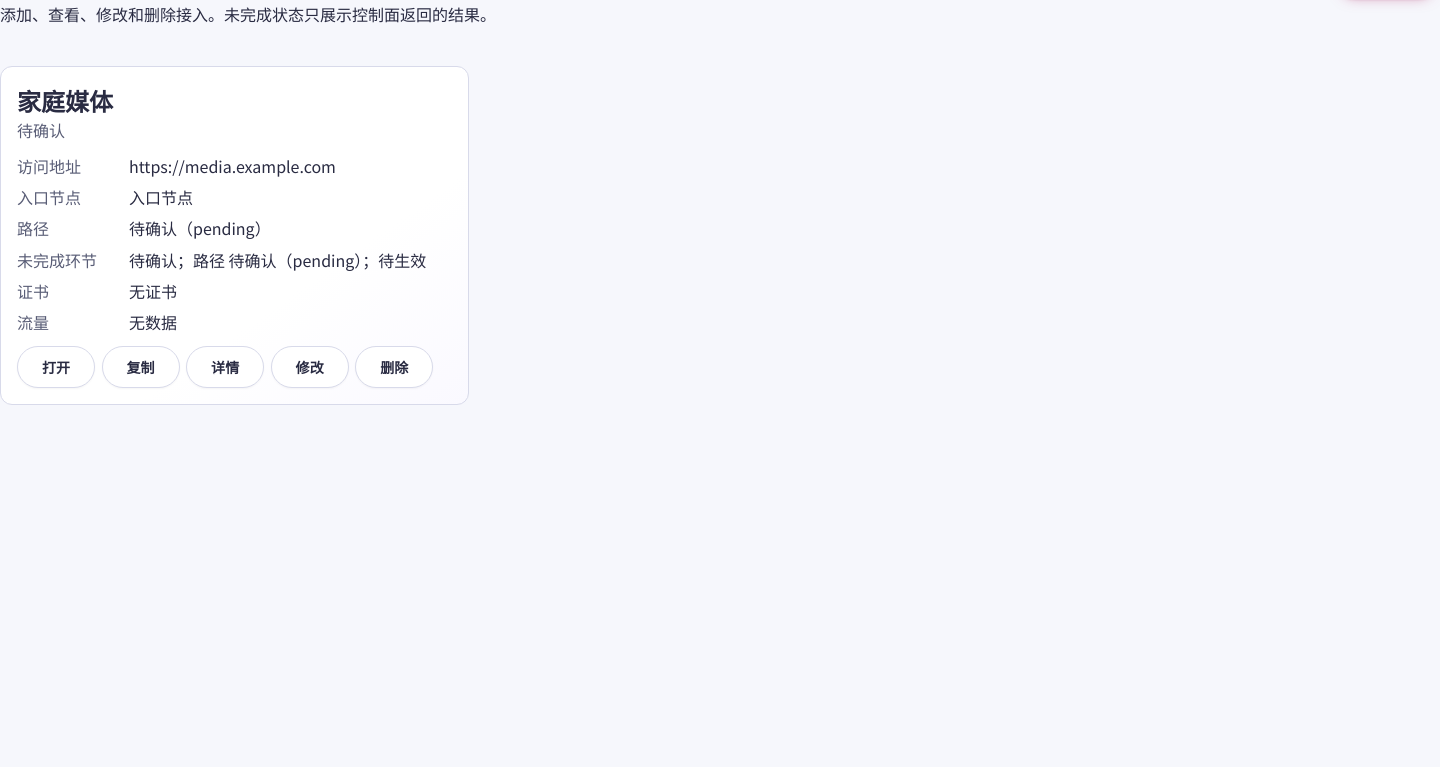
Test case: service page › explains stopped entries and retained resources before deleting
Click the button "删除" at point(394, 367), box [355,346,433,388]
(page scrolled)
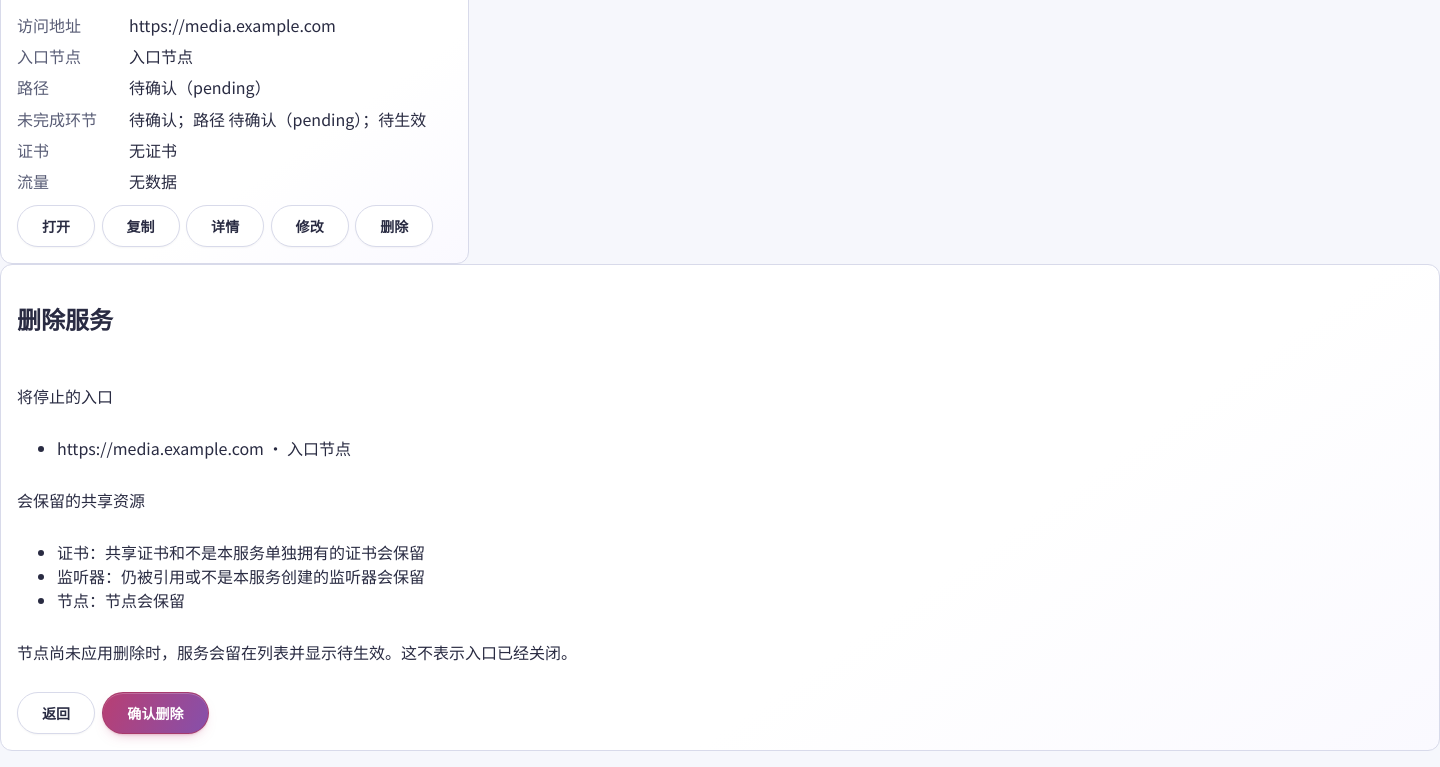
Result: the dialog with test id "service-delete" shows "将停止的入口" at [17,384,113,408]
Result: the dialog with test id "service-delete" shows "https://media.example.com" at [57,436,351,460]
Result: the dialog with test id "service-delete" shows "会保留的共享资源" at [17,488,145,512]
Click the button "返回" at point(56, 713), box [17,692,95,734]
(page scrolled)
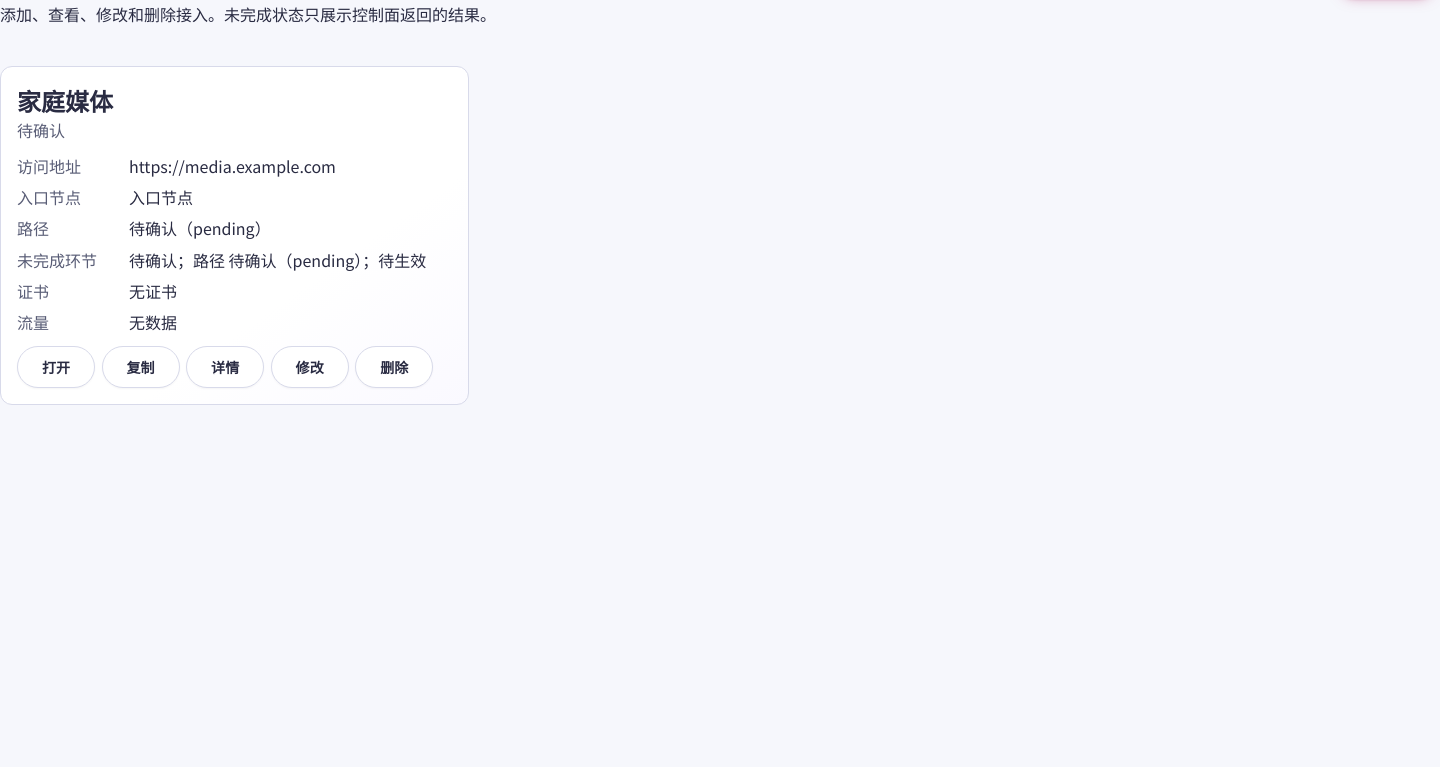
Expected: the element with test id "service-card" is shown, [0,66,469,405]
Click the button "删除" at point(394, 367), box [355,346,433,388]
(page scrolled)
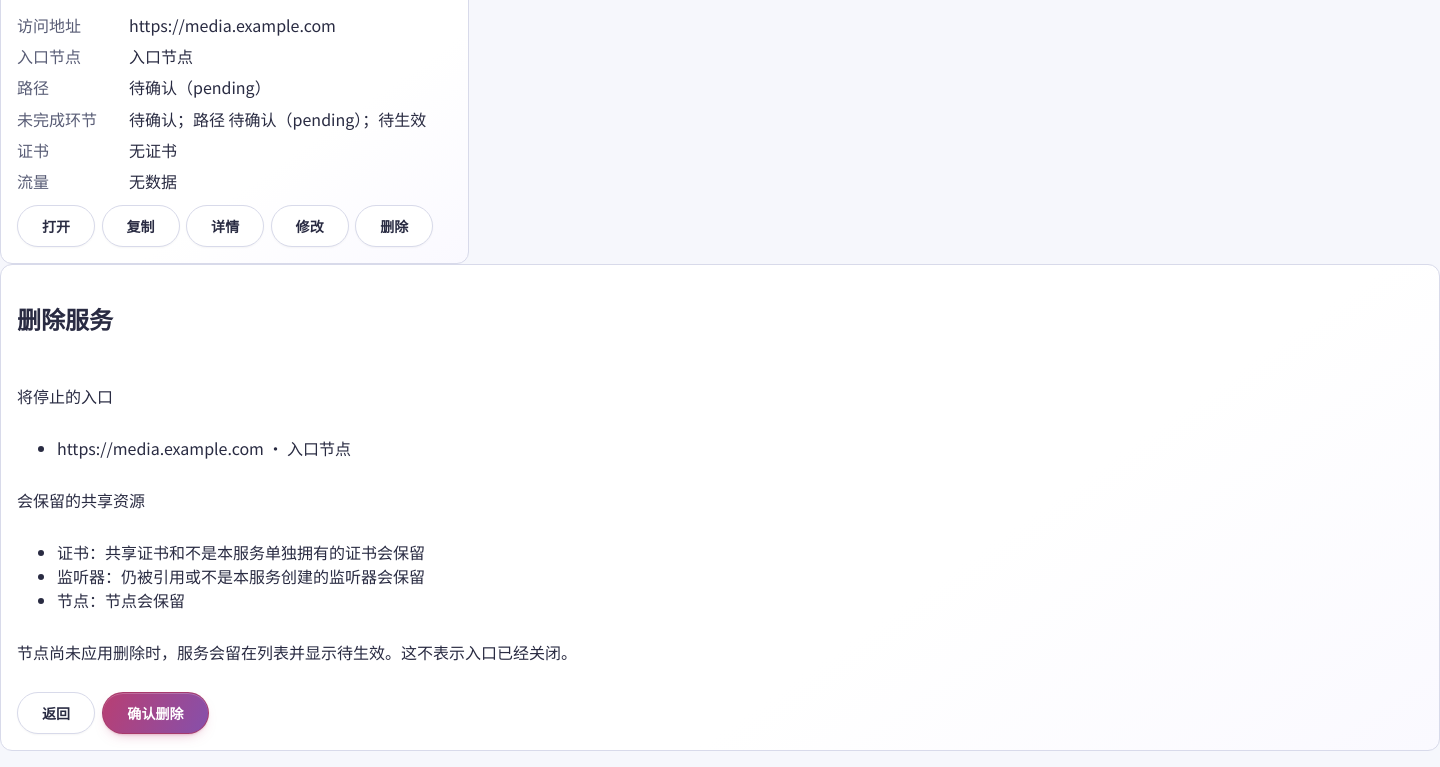
Click the button "确认删除" at point(155, 713), box [102,692,209,734]
(page scrolled)
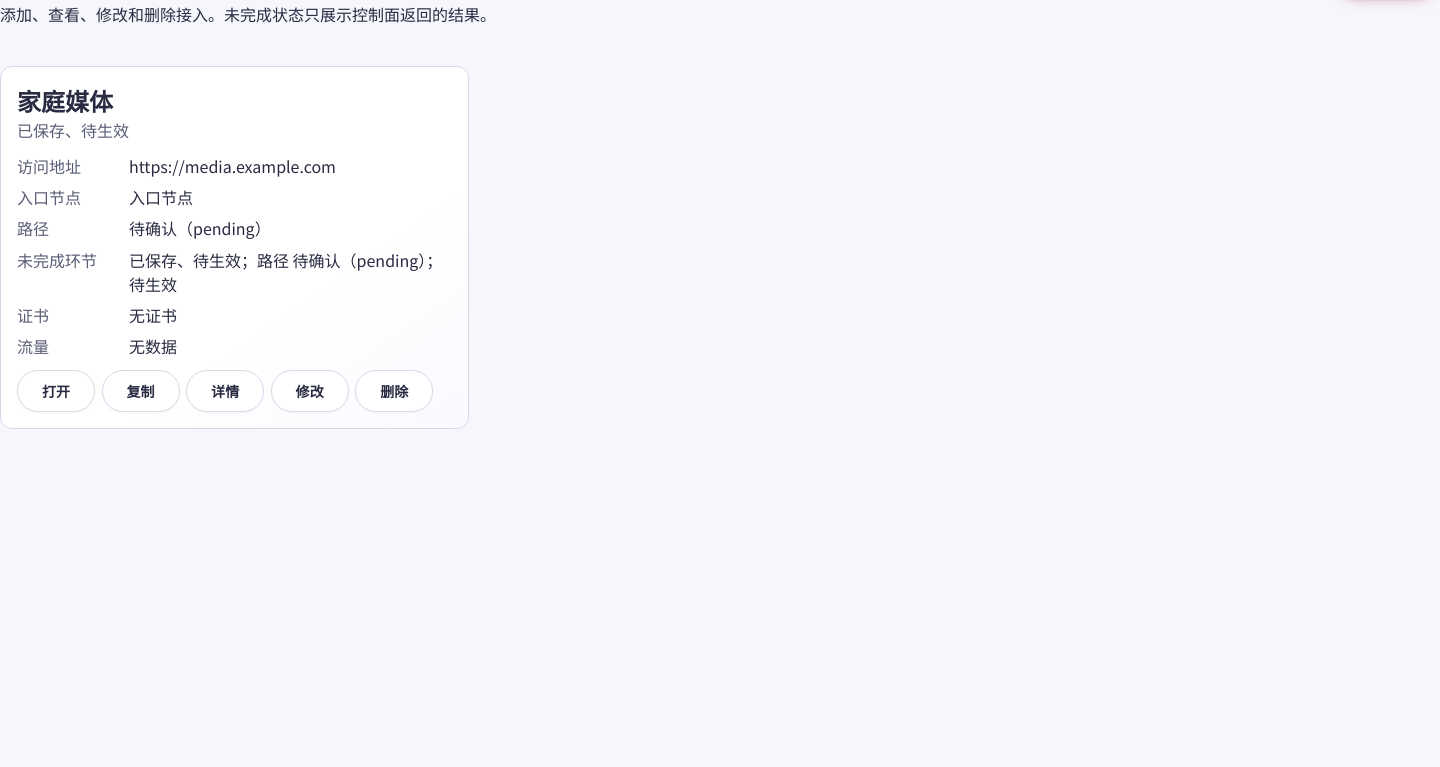
Expected: the element with test id "service-card" is shown, [0,66,469,429]
Result: the text "已保存、待生效" is shown at [17,118,129,142]
